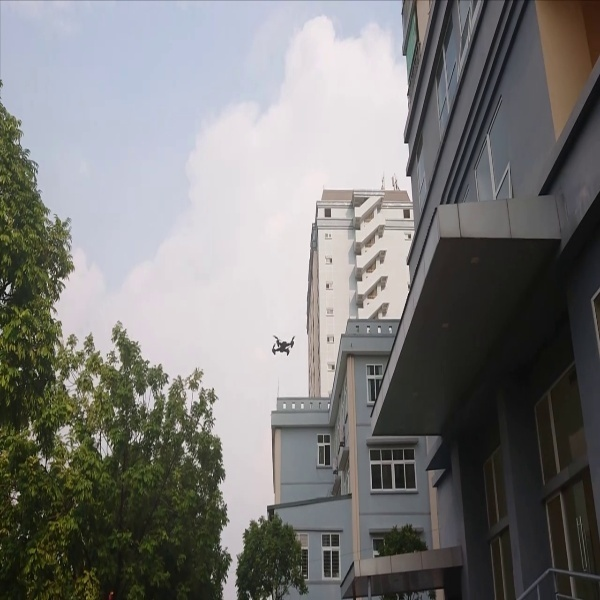drone: (262, 326, 305, 358)
